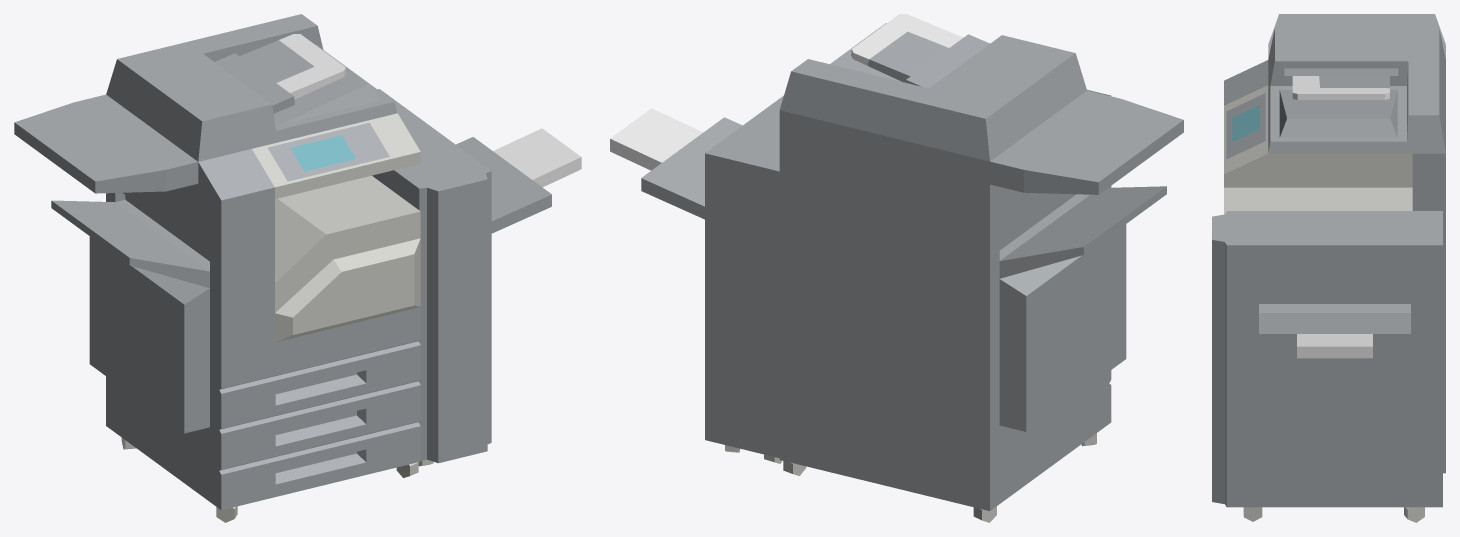
Rendered from Copier.FBX.
3 views of the same model, side by side, from view 1: azimuth 30°, elevation 25°; view 2: azimuth 150°, elevation 25°; view 3: azimuth 270°, elevation 25° (orthographic). The views are drawn at different scales.
Visible parts, largest first — view 1: Copier; view 2: Copier; view 3: Copier.
Boxes of the visible parts, box(x1,y1,x2,y2) form: Copier: box(14, 14, 581, 522); Copier: box(610, 14, 1183, 522); Copier: box(1212, 14, 1445, 522).
Size of the model in its own units: 141 by 107 by 59.72.
